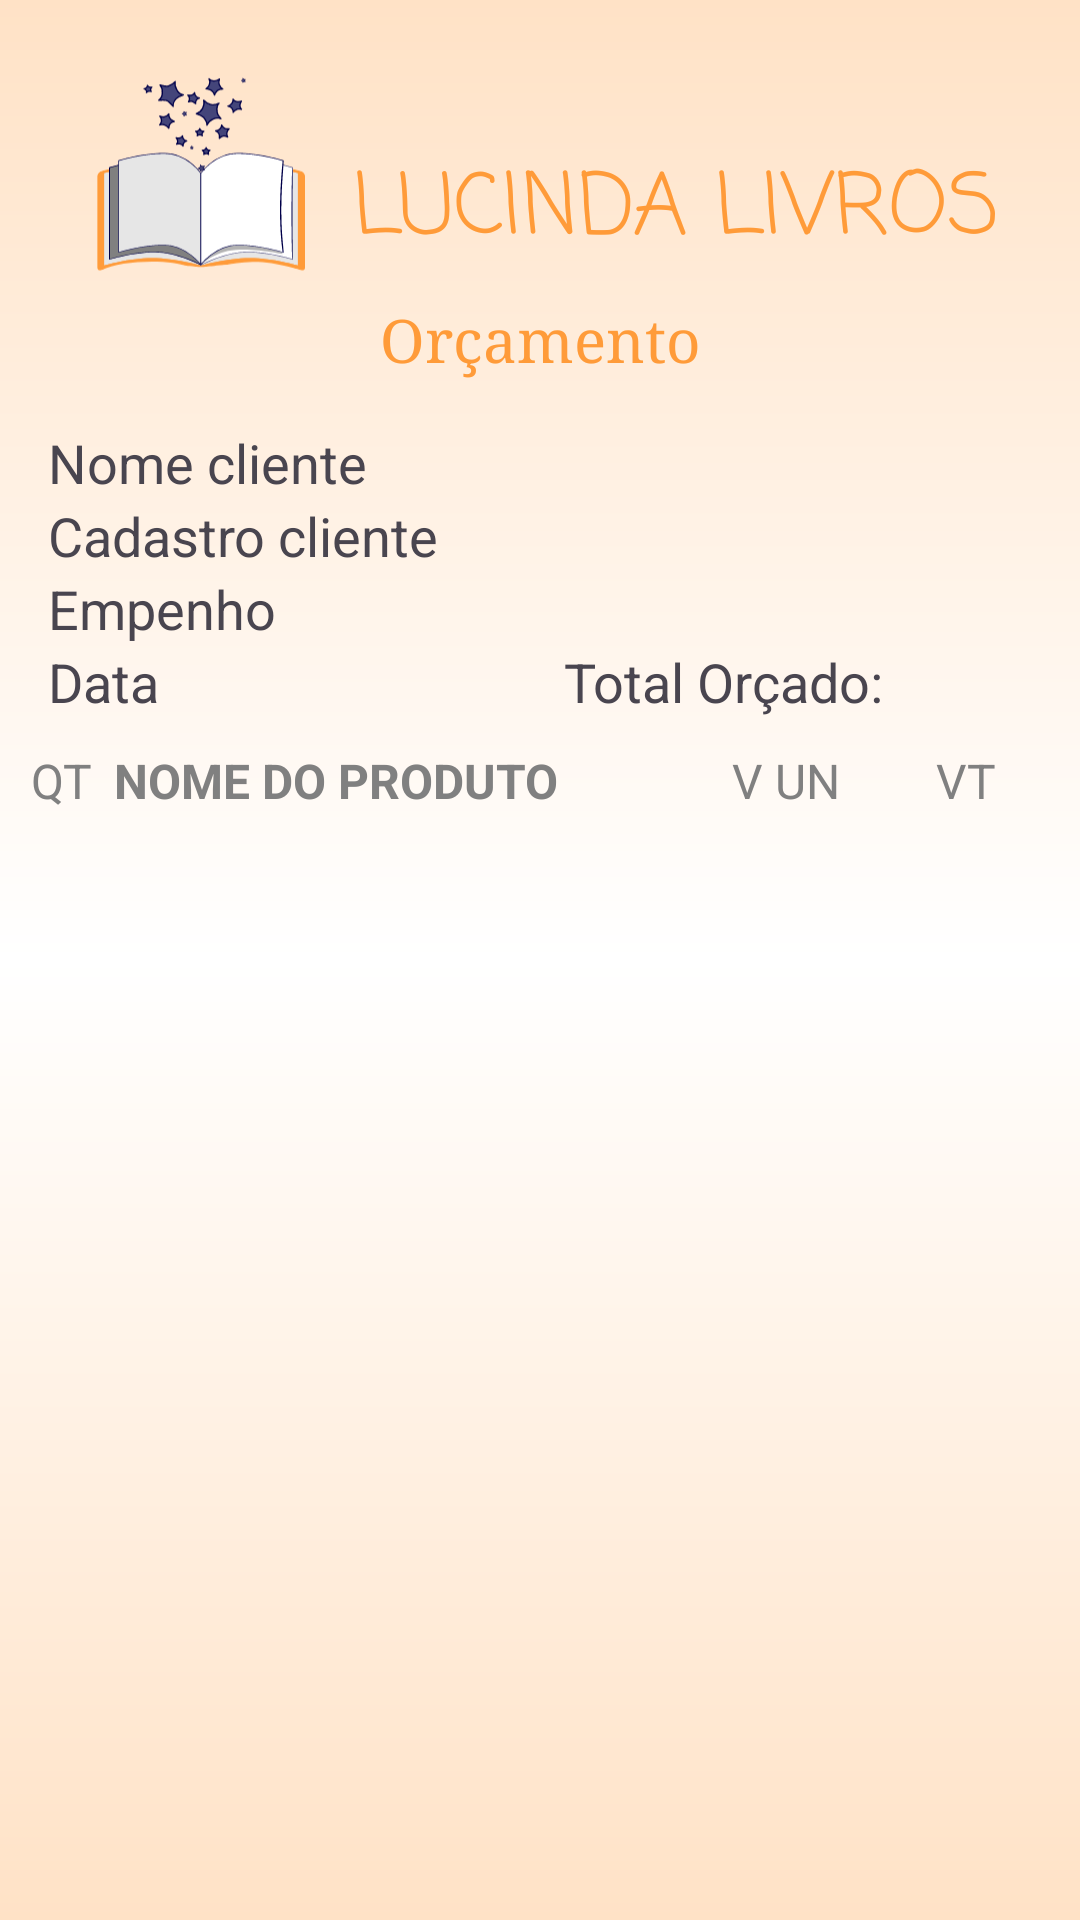

Icon bounding boxes for this 1080 × 1920 phone screenshot, format {"x1": x1, "y1": y1, "x2": x2, "y2": y2}:
book: {"x1": 97, "y1": 77, "x2": 305, "y2": 271}
